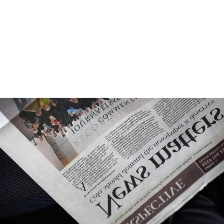news_paper: (0, 95, 224, 224)
